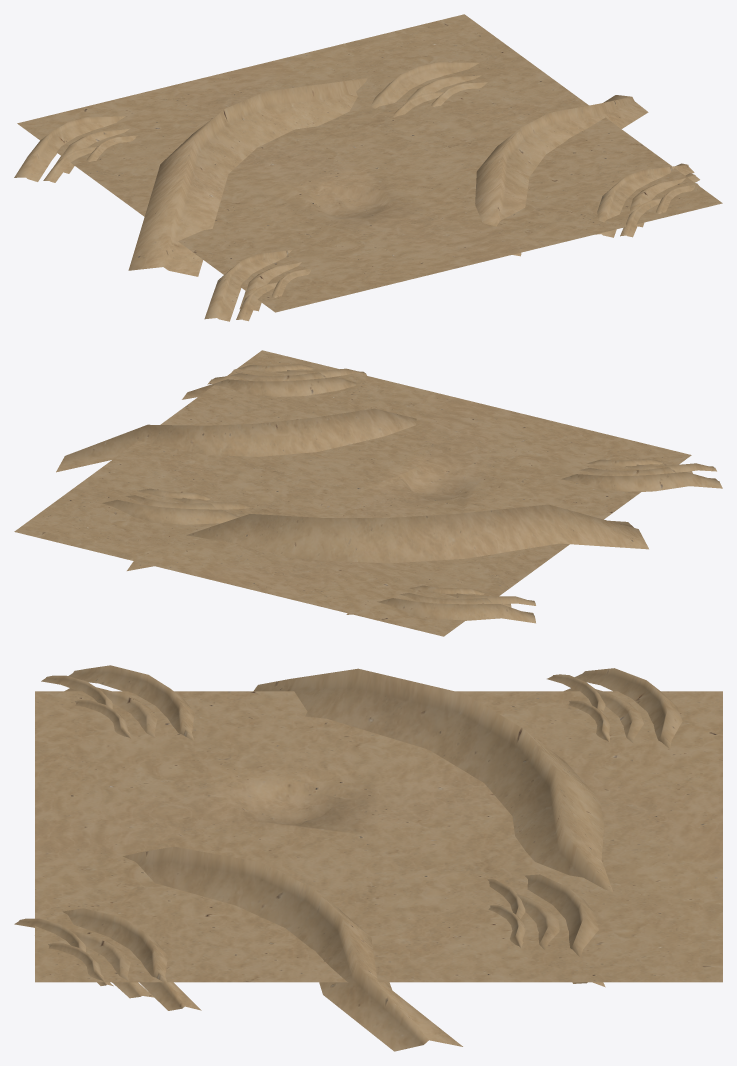
Rendered from Dunes_Segment_1.fbx.
The picture shows the model from 3 angles, top to bottom: view 1: azimuth 30°, elevation 25°; view 2: azimuth 150°, elevation 25°; view 3: azimuth 270°, elevation 25°; orthographic projection. The views are drawn at different scales.
Parts seen in each view (by area): view 1: Dunes_Segment_1; view 2: Dunes_Segment_1; view 3: Dunes_Segment_1.
Part boxes in pixels (<box>): Dunes_Segment_1: <box>14,14,722,321</box>; Dunes_Segment_1: <box>14,350,722,636</box>; Dunes_Segment_1: <box>14,665,722,1051</box>.
Size of the model in its own units: 12510 by 1305 by 10304.
